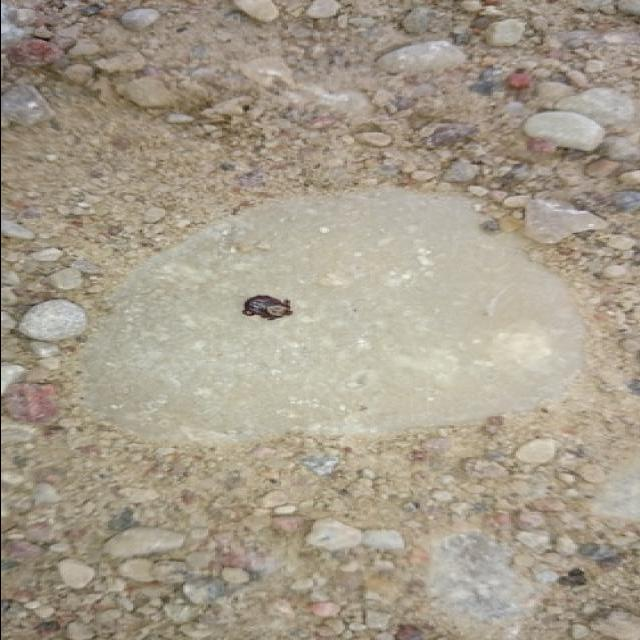Dermacentor Reticulatus-F: (239, 292, 292, 321)
